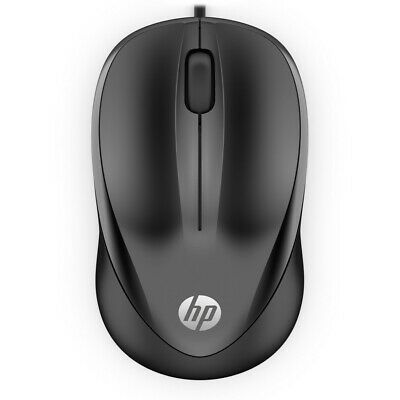hp-mouse-X1000: (89, 5, 314, 378)
